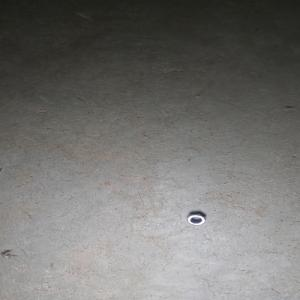Nut: (186, 213, 206, 226)
